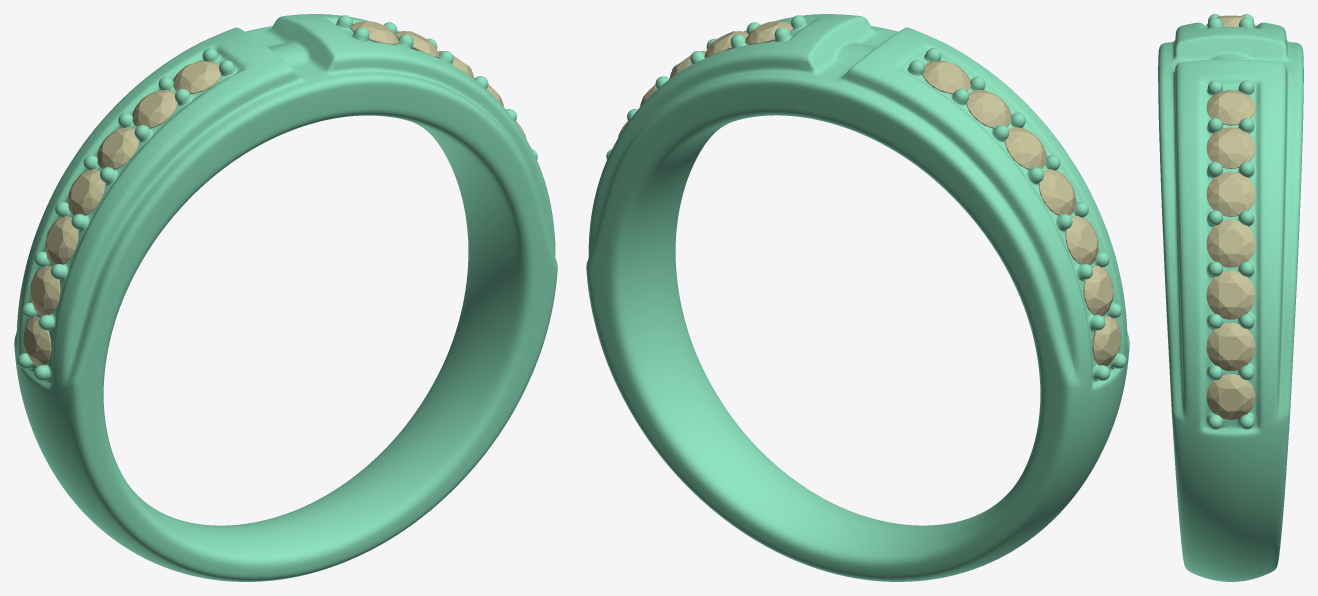
The picture shows the model from 3 angles, left to right: view 1: azimuth 30°, elevation 25°; view 2: azimuth 150°, elevation 25°; view 3: azimuth 270°, elevation 25°; orthographic projection. The views are drawn at different scales.
Parts seen in each view (by area): view 1: Metal02, Diamond_Gem.005, Diamond_Gem.006, Diamond_Gem.004, Diamond_Gem.002, Diamond_Gem.003, Diamond_Gem.001, Diamond_Gem; view 2: Metal02, Diamond_Gem.006, Diamond_Gem.005, Diamond_Gem.004, Diamond_Gem.002, Diamond_Gem.003, Diamond_Gem.001, Diamond_Gem; view 3: Metal02, Diamond_Gem.011, Diamond_Gem.012, Diamond_Gem.007, Diamond_Gem.013, Diamond_Gem.008, Diamond_Gem.009, Diamond_Gem.010, Diamond_Gem.003.
Boxes of the visible parts, x1,y1,x2,y2 form: Metal02: (14,14,557,581); Diamond_Gem.005: (97,127,139,169); Diamond_Gem.006: (67,169,105,215); Diamond_Gem.004: (132,90,177,128); Diamond_Gem.002: (45,216,78,264); Diamond_Gem.003: (173,61,221,94); Diamond_Gem.001: (30,265,60,315); Diamond_Gem: (22,316,51,366); Metal02: (586,14,1129,581); Diamond_Gem.006: (1038,169,1076,215); Diamond_Gem.005: (1004,127,1046,169); Diamond_Gem.004: (966,90,1011,128); Diamond_Gem.002: (1065,216,1098,264); Diamond_Gem.003: (922,61,970,94); Diamond_Gem.001: (1083,265,1113,315); Diamond_Gem: (1092,316,1120,366); Metal02: (1158,14,1303,581); Diamond_Gem.011: (1206,271,1255,319); Diamond_Gem.012: (1206,322,1255,370); Diamond_Gem.007: (1206,219,1255,267); Diamond_Gem.013: (1206,374,1255,419); Diamond_Gem.008: (1206,171,1255,216); Diamond_Gem.009: (1206,127,1255,168); Diamond_Gem.010: (1206,90,1255,125); Diamond_Gem.003: (1206,15,1255,26).
Bounding box in the file's own units: 22.24 × 21.81 × 5.66.
